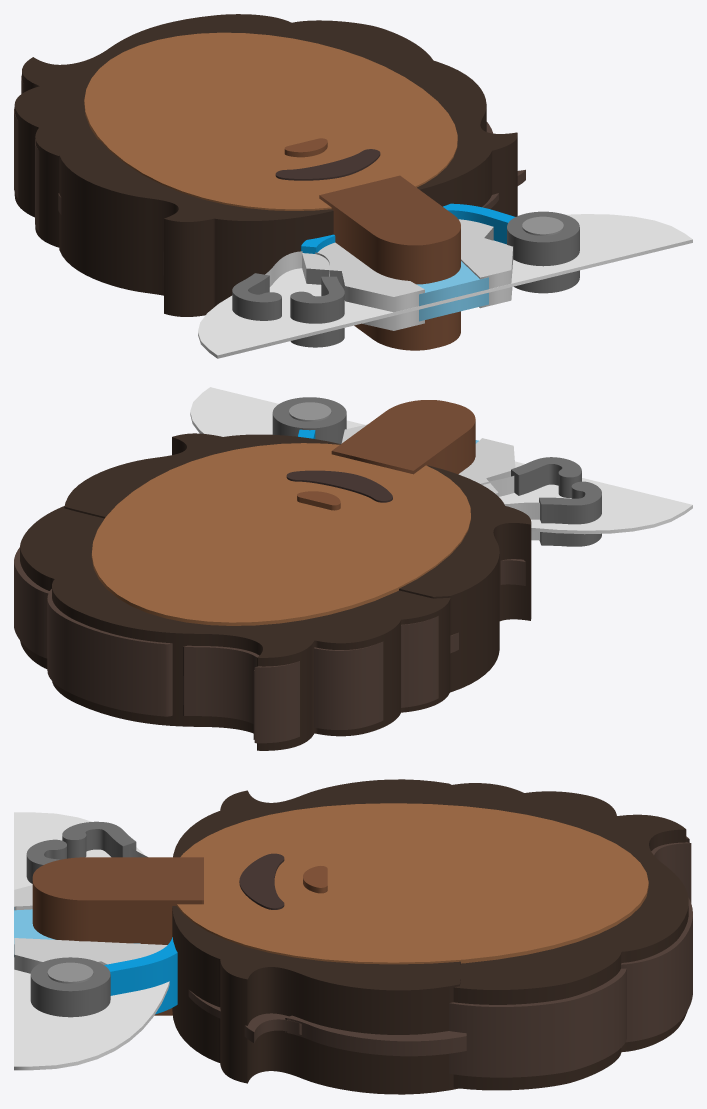
Rendered from emoji_u1f9d1_1f3fe_200d_2695.glb.
The picture shows the model from 3 angles, top to bottom: view 1: azimuth 30°, elevation 25°; view 2: azimuth 150°, elevation 25°; view 3: azimuth 270°, elevation 25°; orthographic projection. The views are drawn at different scales.
Visible parts, largest first — view 1: emoji_u1f9d1_1f3fe_200d_2695; view 2: emoji_u1f9d1_1f3fe_200d_2695; view 3: emoji_u1f9d1_1f3fe_200d_2695.
Boxes of the visible parts, <box> form: emoji_u1f9d1_1f3fe_200d_2695: <box>14,14,692,358</box>; emoji_u1f9d1_1f3fe_200d_2695: <box>14,387,692,750</box>; emoji_u1f9d1_1f3fe_200d_2695: <box>14,779,692,1094</box>.
Bounding box in the file's own units: 0.0293 × 0.0064 × 0.0331.
